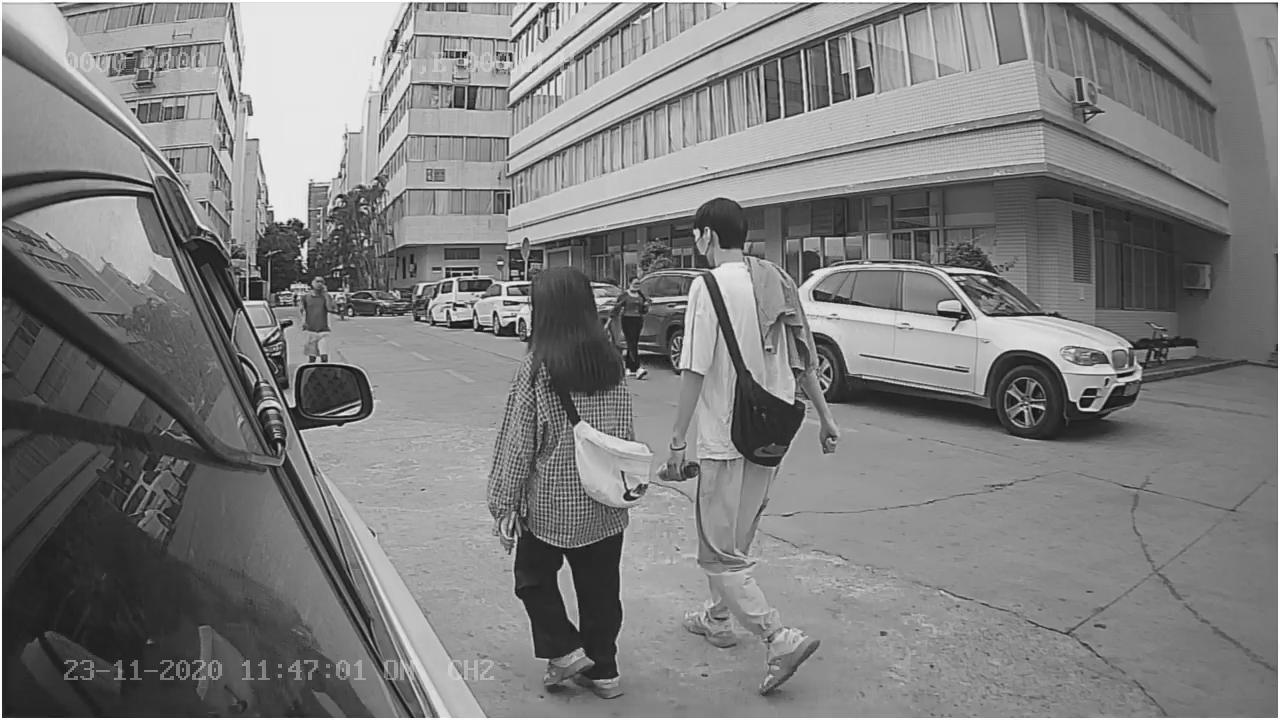person: (664, 181, 839, 695), (488, 240, 644, 696)
